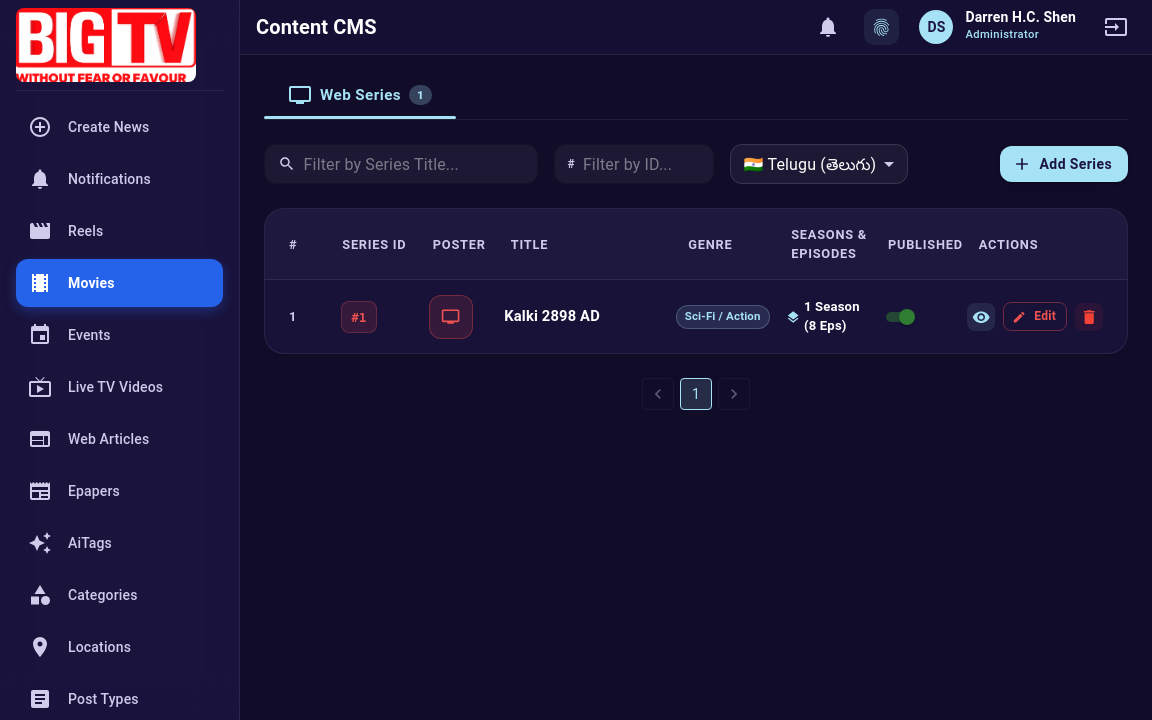
Scenario: MoviesPage Component › opens drawer when Add Series button is clicked
Click the button "Add Series". click: (1064, 164)
box: 1000,146 -> 1128,182
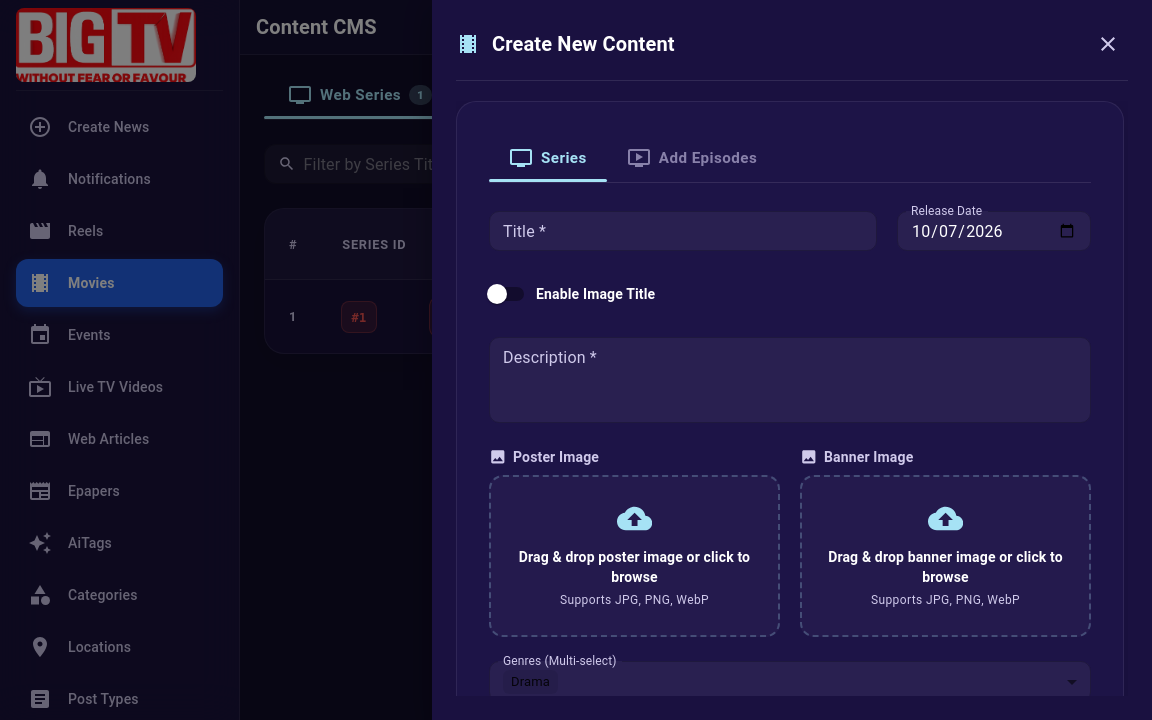
Now the heading "Create New Content" is shown, box 492,28 -> 675,60
